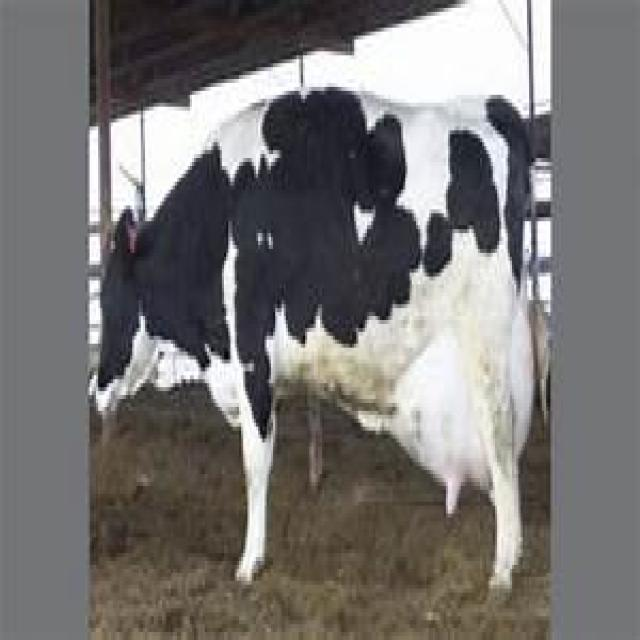animal: (94, 81, 546, 597)
